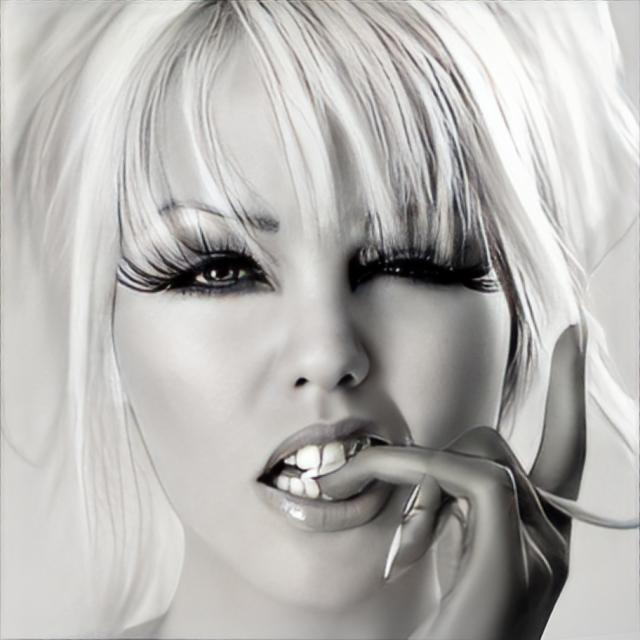disgust: (114, 0, 514, 614)
